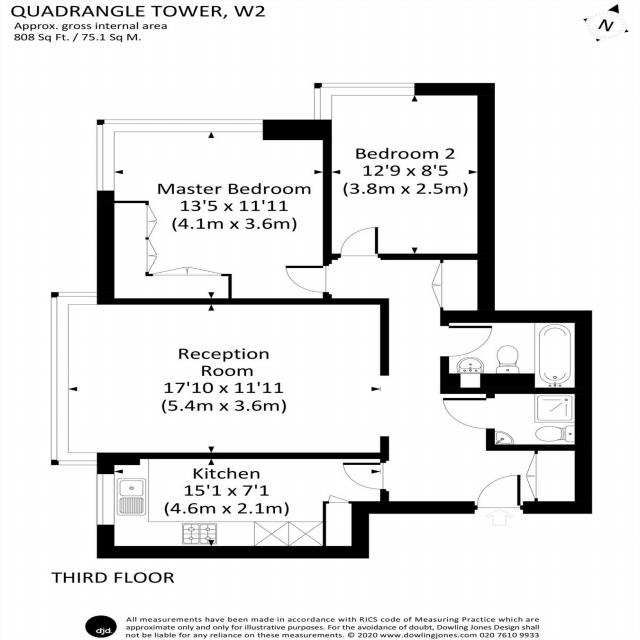DOOR: (439, 396, 496, 431), (439, 324, 494, 359), (475, 473, 522, 513), (338, 461, 389, 492), (338, 225, 381, 259), (282, 265, 331, 294)
ROOM: (46, 288, 390, 468), (95, 119, 333, 305), (312, 82, 496, 260), (96, 452, 390, 559)
WINDOW: (48, 290, 72, 468), (94, 118, 266, 134), (96, 118, 117, 193), (313, 82, 416, 96), (95, 473, 116, 526), (48, 289, 100, 307), (49, 449, 100, 467), (314, 82, 333, 120)
